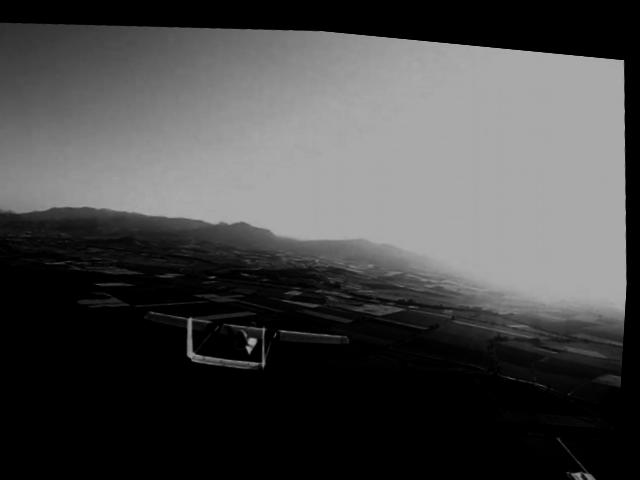hedef: (117, 285, 361, 387)
